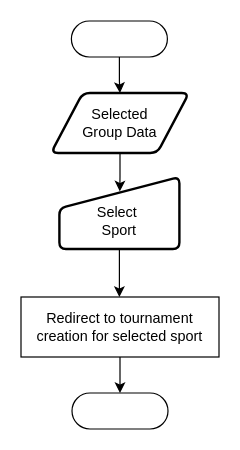
The diagram is 240 pixels wide and 450 high, and some of its shapes have lost their labels. The shapes that lost their labels are listed below. From the top down, each one's box as (x1, y1, x2, y2) in pixels, then its label:
(70, 20, 167, 57): Start
(71, 392, 168, 429): End
